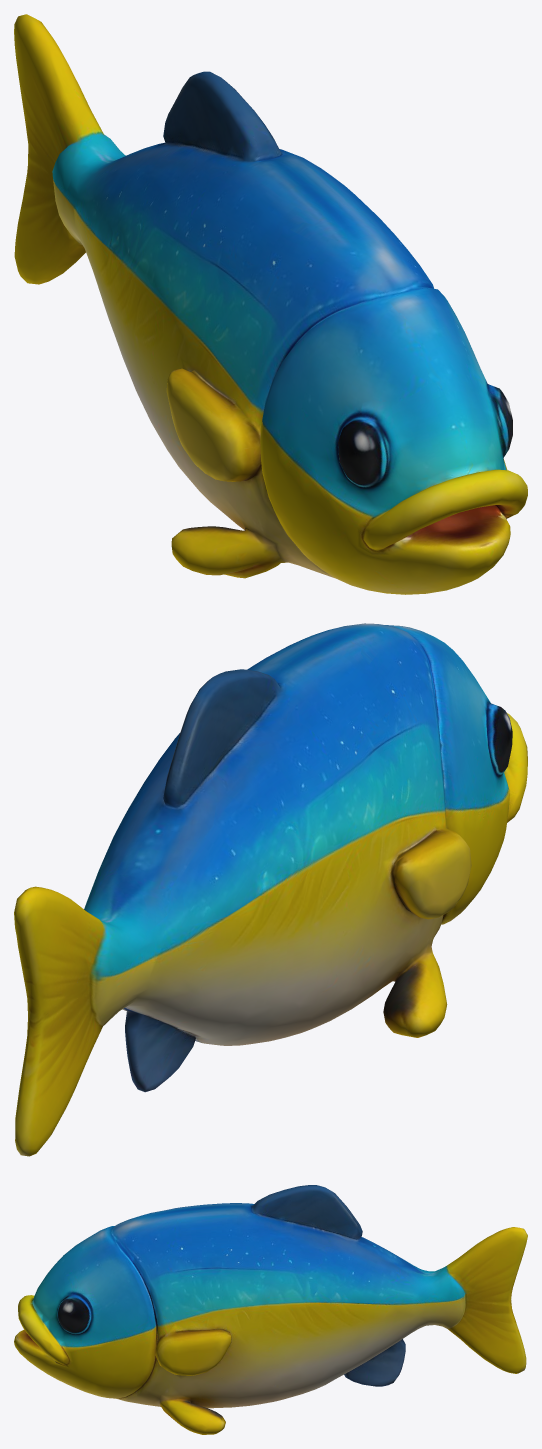
File: kingfish.glb
The picture shows the model from 3 angles, top to bottom: view 1: azimuth 30°, elevation 25°; view 2: azimuth 150°, elevation 25°; view 3: azimuth 270°, elevation 25°; orthographic projection. The views are drawn at different scales.
Visible parts, largest first — view 1: tripo_node_bf1926d7-2952-45fa-8fa0-1d07587ca89e; view 2: tripo_node_bf1926d7-2952-45fa-8fa0-1d07587ca89e; view 3: tripo_node_bf1926d7-2952-45fa-8fa0-1d07587ca89e.
Boxes of the visible parts, x1,y1,x2,y2 form: tripo_node_bf1926d7-2952-45fa-8fa0-1d07587ca89e: [14, 14, 527, 594]; tripo_node_bf1926d7-2952-45fa-8fa0-1d07587ca89e: [14, 623, 527, 1156]; tripo_node_bf1926d7-2952-45fa-8fa0-1d07587ca89e: [14, 1185, 527, 1434].
Size of the model in its own units: 0.323 by 0.4731 by 1.
Materials: 1 (1 with a texture image).
